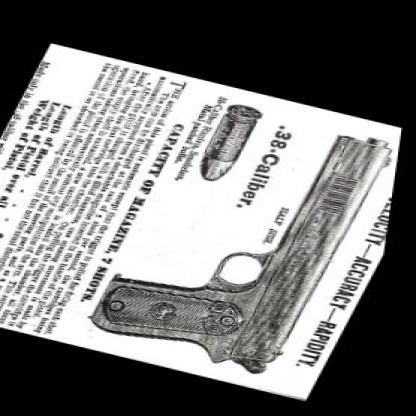pistol: (79, 81, 403, 382)
